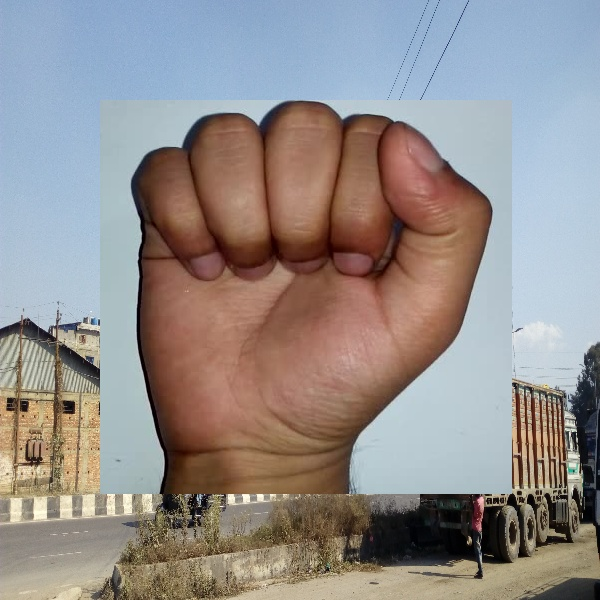A: (100, 100, 512, 494)
